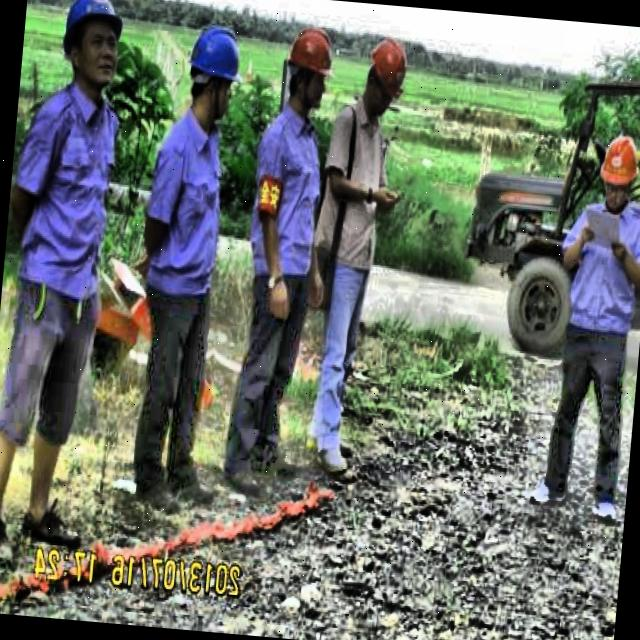helmet: (180, 16, 250, 131), (51, 0, 132, 98), (276, 17, 340, 122), (362, 34, 411, 114), (598, 129, 640, 210)
